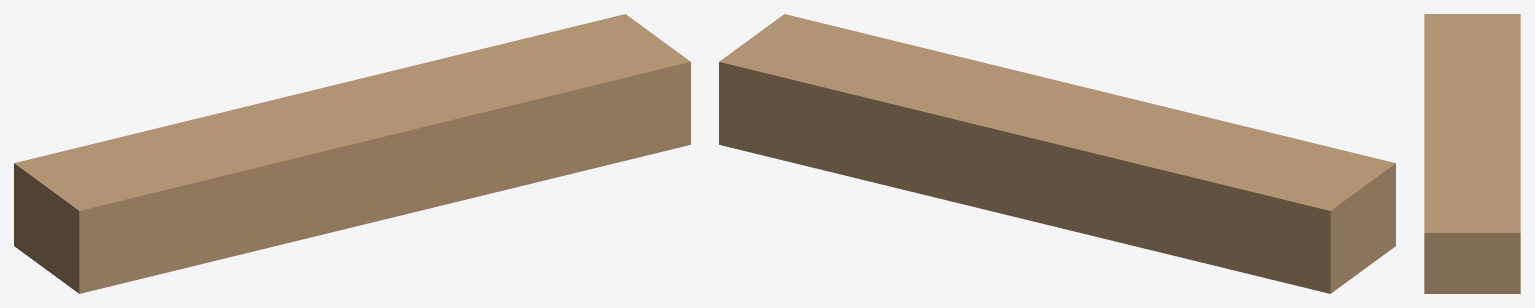
The model's file is Prop_Water_AMF_Trough_V6.glb.
The picture shows the model from 3 angles, left to right: view 1: azimuth 30°, elevation 25°; view 2: azimuth 150°, elevation 25°; view 3: azimuth 270°, elevation 25°; orthographic projection. The views are drawn at different scales.
Parts seen in each view (by area): view 1: Prop_Water_AMF_Trough_V6; view 2: Prop_Water_AMF_Trough_V6; view 3: Prop_Water_AMF_Trough_V6.
Part boxes in pixels (x1,y1,x2,y2): Prop_Water_AMF_Trough_V6: (14,14,690,293); Prop_Water_AMF_Trough_V6: (719,14,1395,293); Prop_Water_AMF_Trough_V6: (1424,14,1520,293).
Bounding box in the file's own units: 2.7 × 0.35 × 0.5.
